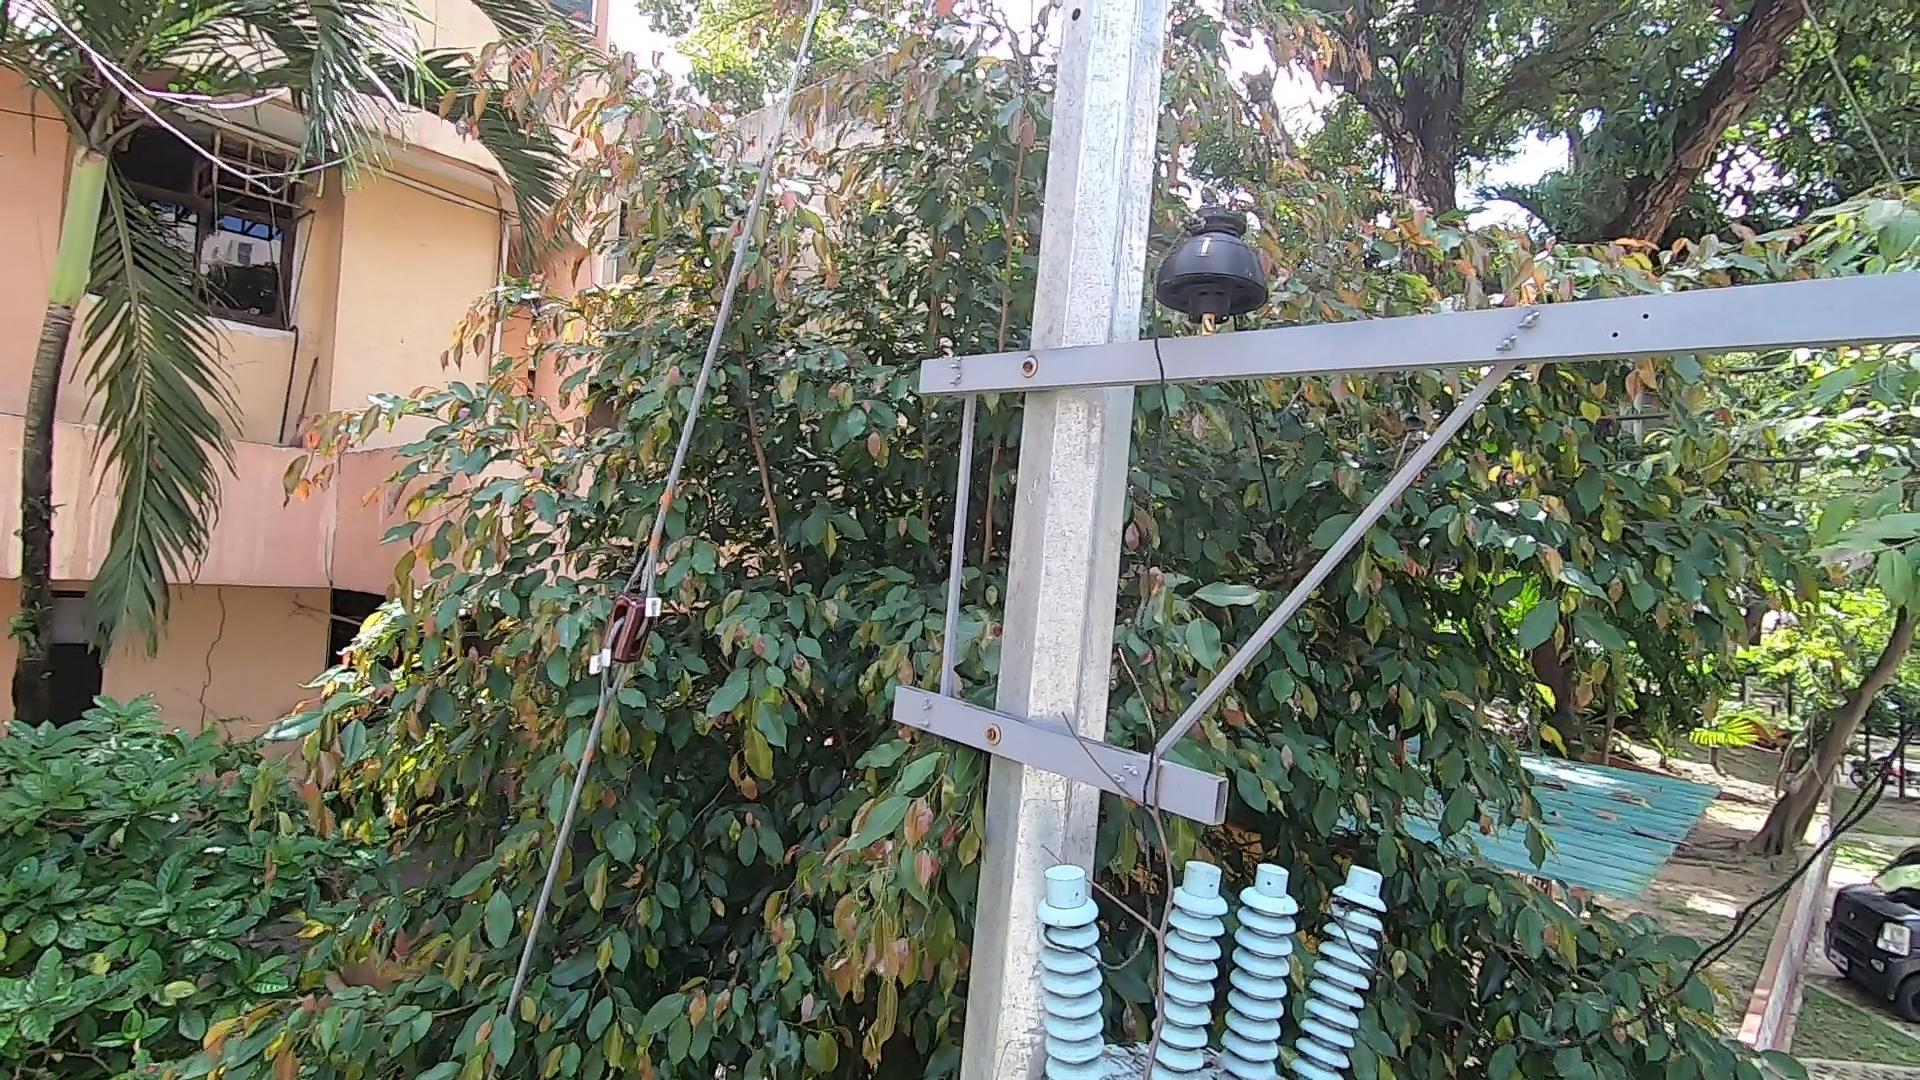tree branch: (1060, 603, 1228, 1080)
